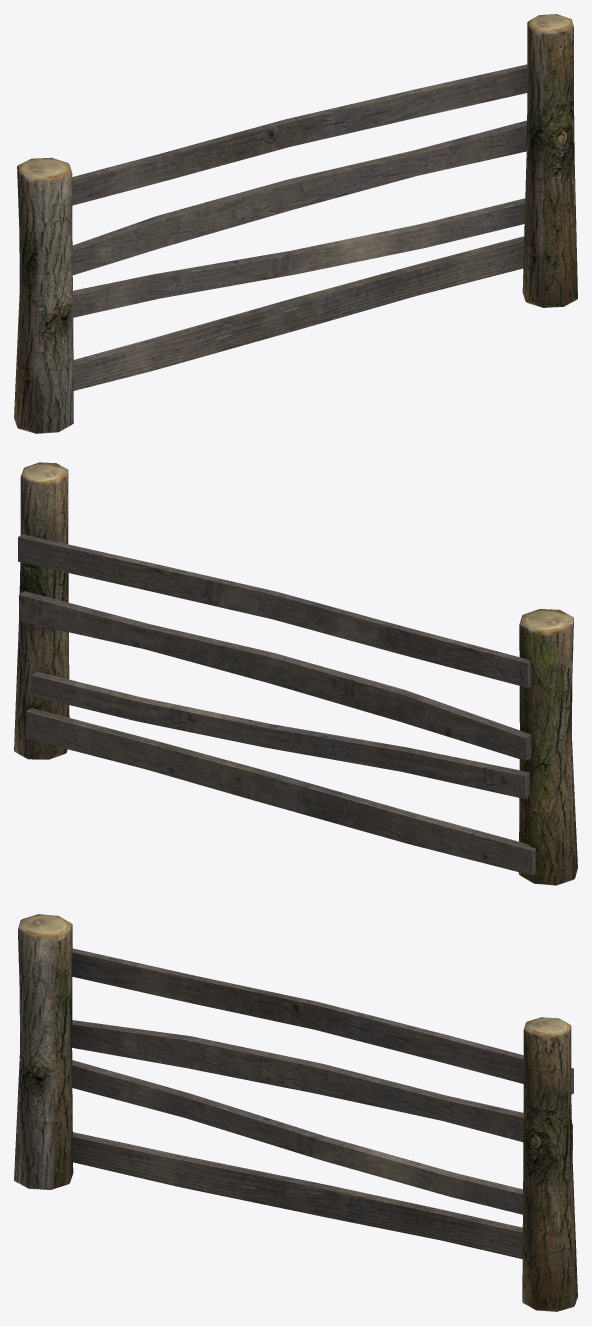
File: fence_1.glb
3 renders of one model, top to bottom at view 1: azimuth 30°, elevation 25°; view 2: azimuth 150°, elevation 25°; view 3: azimuth 330°, elevation 25°, orthographic.
Visible parts, largest first — view 1: fence_1; view 2: fence_1; view 3: fence_1.
Part boxes in pixels (left/top/right/bottom): fence_1: left=14, top=14, right=577, bottom=433; fence_1: left=14, top=462, right=577, bottom=885; fence_1: left=14, top=914, right=577, bottom=1311.
Bounding box in the file's own units: 3.94 × 1.87 × 0.4128.
Materials: 1 (1 with a texture image).
